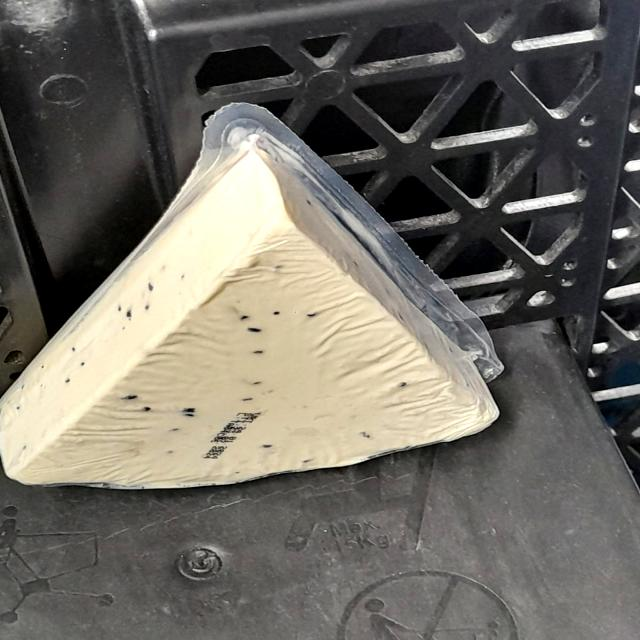cheese: (1, 137, 495, 489)
